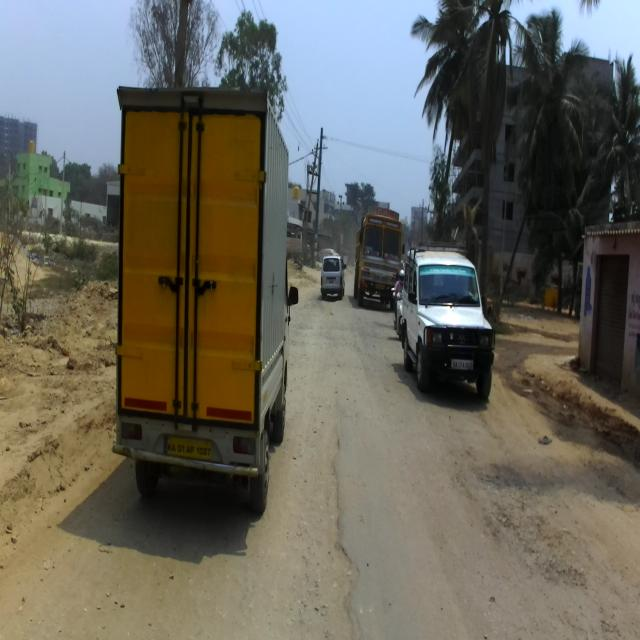car ahead at: (403, 242, 495, 408), (320, 252, 346, 303)
truck ahead at: (118, 86, 291, 511), (356, 206, 399, 302)
